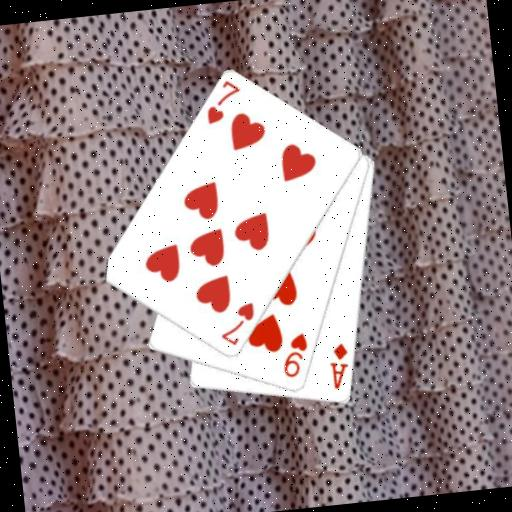7H: (200, 76, 246, 127), (215, 300, 260, 350)
9H: (277, 330, 312, 381)
AD: (325, 340, 353, 391)
